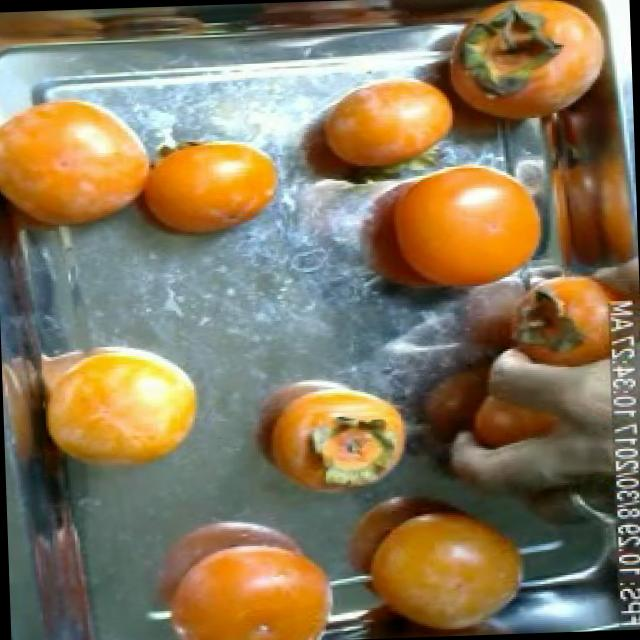Fruit: (328, 474, 550, 640), (135, 486, 358, 640), (13, 334, 216, 484), (228, 362, 430, 510), (0, 83, 171, 249), (450, 321, 638, 469), (272, 60, 472, 180), (120, 129, 298, 253)
